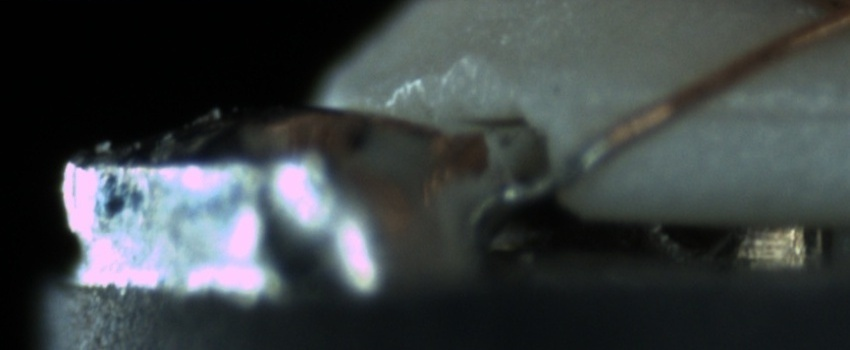DL: (678, 76, 849, 146)
TS: (512, 134, 616, 204)
TTCW: (499, 127, 628, 207)
